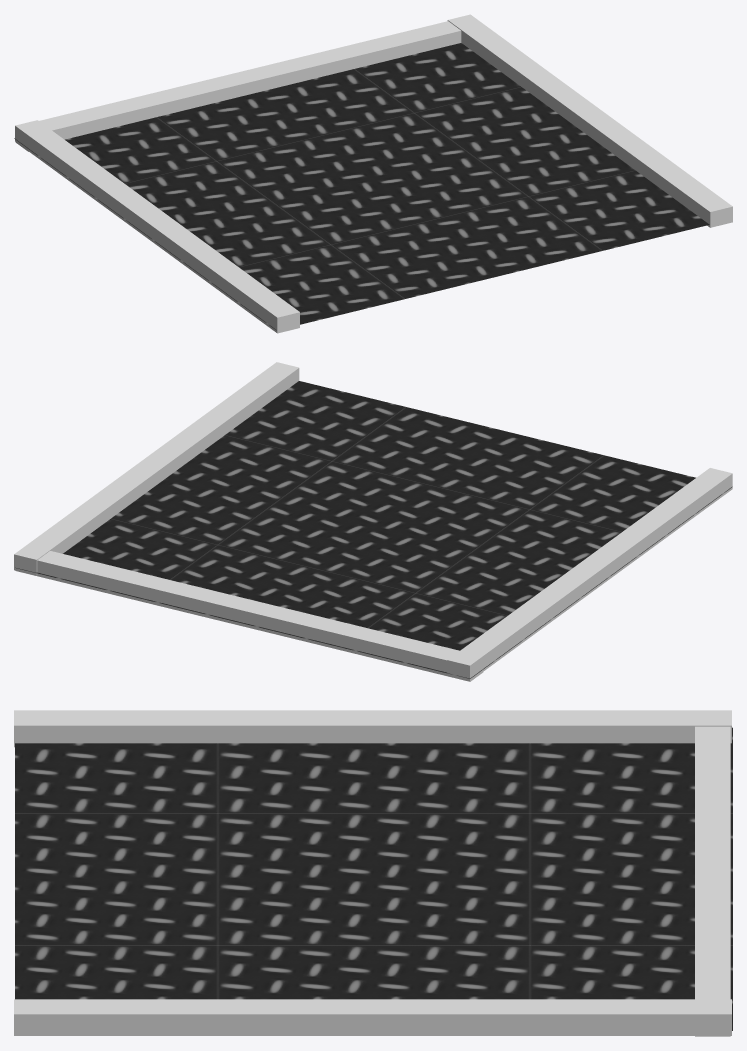
The model's file is GratedFloor2.fbx.
3 views of the same model, one above another, from view 1: azimuth 30°, elevation 25°; view 2: azimuth 150°, elevation 25°; view 3: azimuth 270°, elevation 25° (orthographic). The views are drawn at different scales.
Visible parts, largest first — view 1: wall_big_no_side_full_LOD1.003; view 2: wall_big_no_side_full_LOD1.003; view 3: wall_big_no_side_full_LOD1.003.
Part boxes in pixels (x1,y1,x2,y2): wall_big_no_side_full_LOD1.003: [14, 14, 732, 333]; wall_big_no_side_full_LOD1.003: [14, 362, 732, 681]; wall_big_no_side_full_LOD1.003: [14, 710, 732, 1036].
Size of the model in its own units: 4014 by 139 by 4006.
